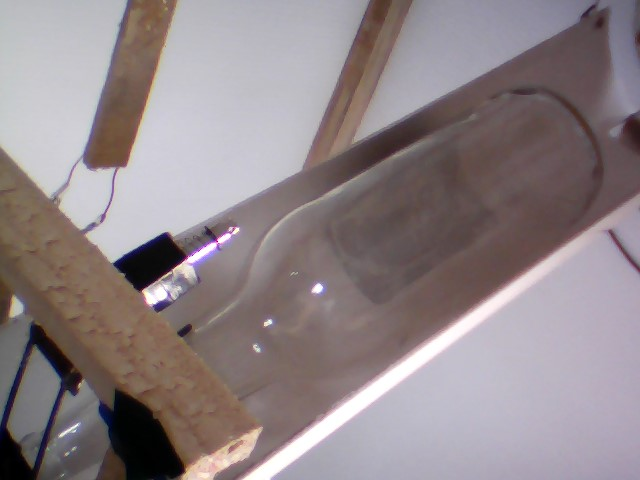vidrio: (167, 81, 605, 412)
